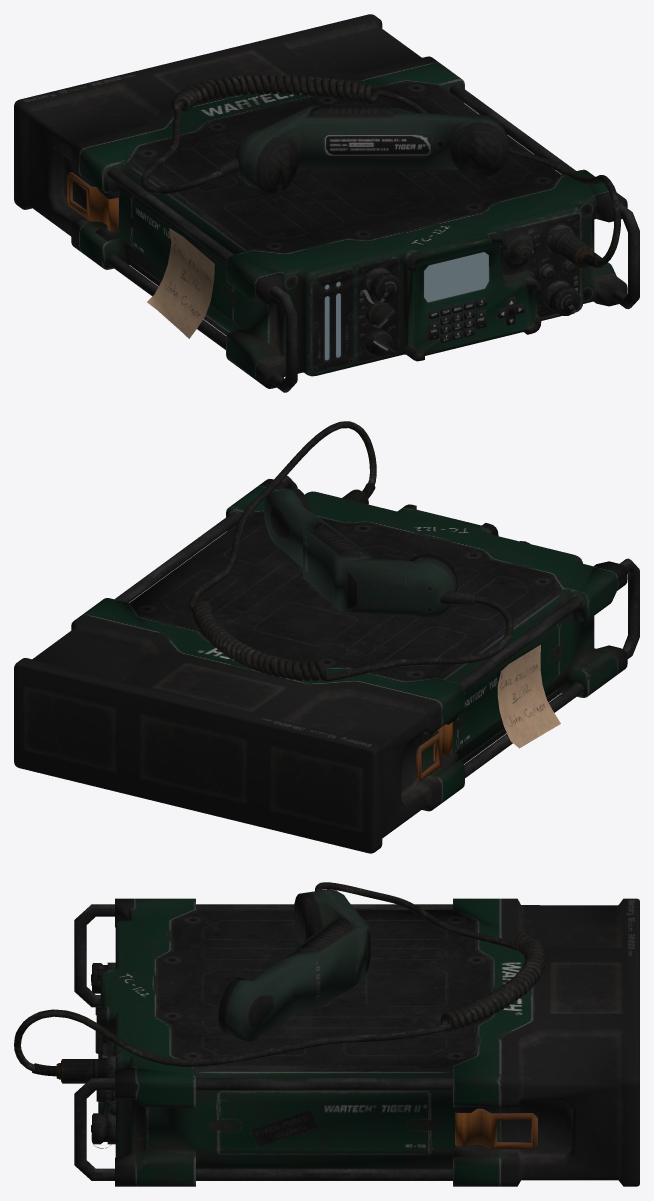
File: Modern Military Radio.fbx
The picture shows the model from 3 angles, top to bottom: view 1: azimuth 30°, elevation 25°; view 2: azimuth 150°, elevation 25°; view 3: azimuth 270°, elevation 25°; orthographic projection. The views are drawn at different scales.
Parts seen in each view (by area): view 1: desirefx.me_002, desirefx.me_003, desirefx.me_001; view 2: desirefx.me_002, desirefx.me_003; view 3: desirefx.me_002, desirefx.me_003.
Boxes of the visible parts, box(x1,y1,x2,y2) form: desirefx.me_002: box(14, 14, 639, 392); desirefx.me_003: box(141, 74, 620, 338); desirefx.me_001: box(324, 252, 489, 360); desirefx.me_002: box(14, 475, 639, 853); desirefx.me_003: box(189, 421, 560, 748); desirefx.me_002: box(56, 889, 639, 1186); desirefx.me_003: box(14, 882, 546, 1148).
Bounding box in the file's own units: 127 × 52.7 × 180.
